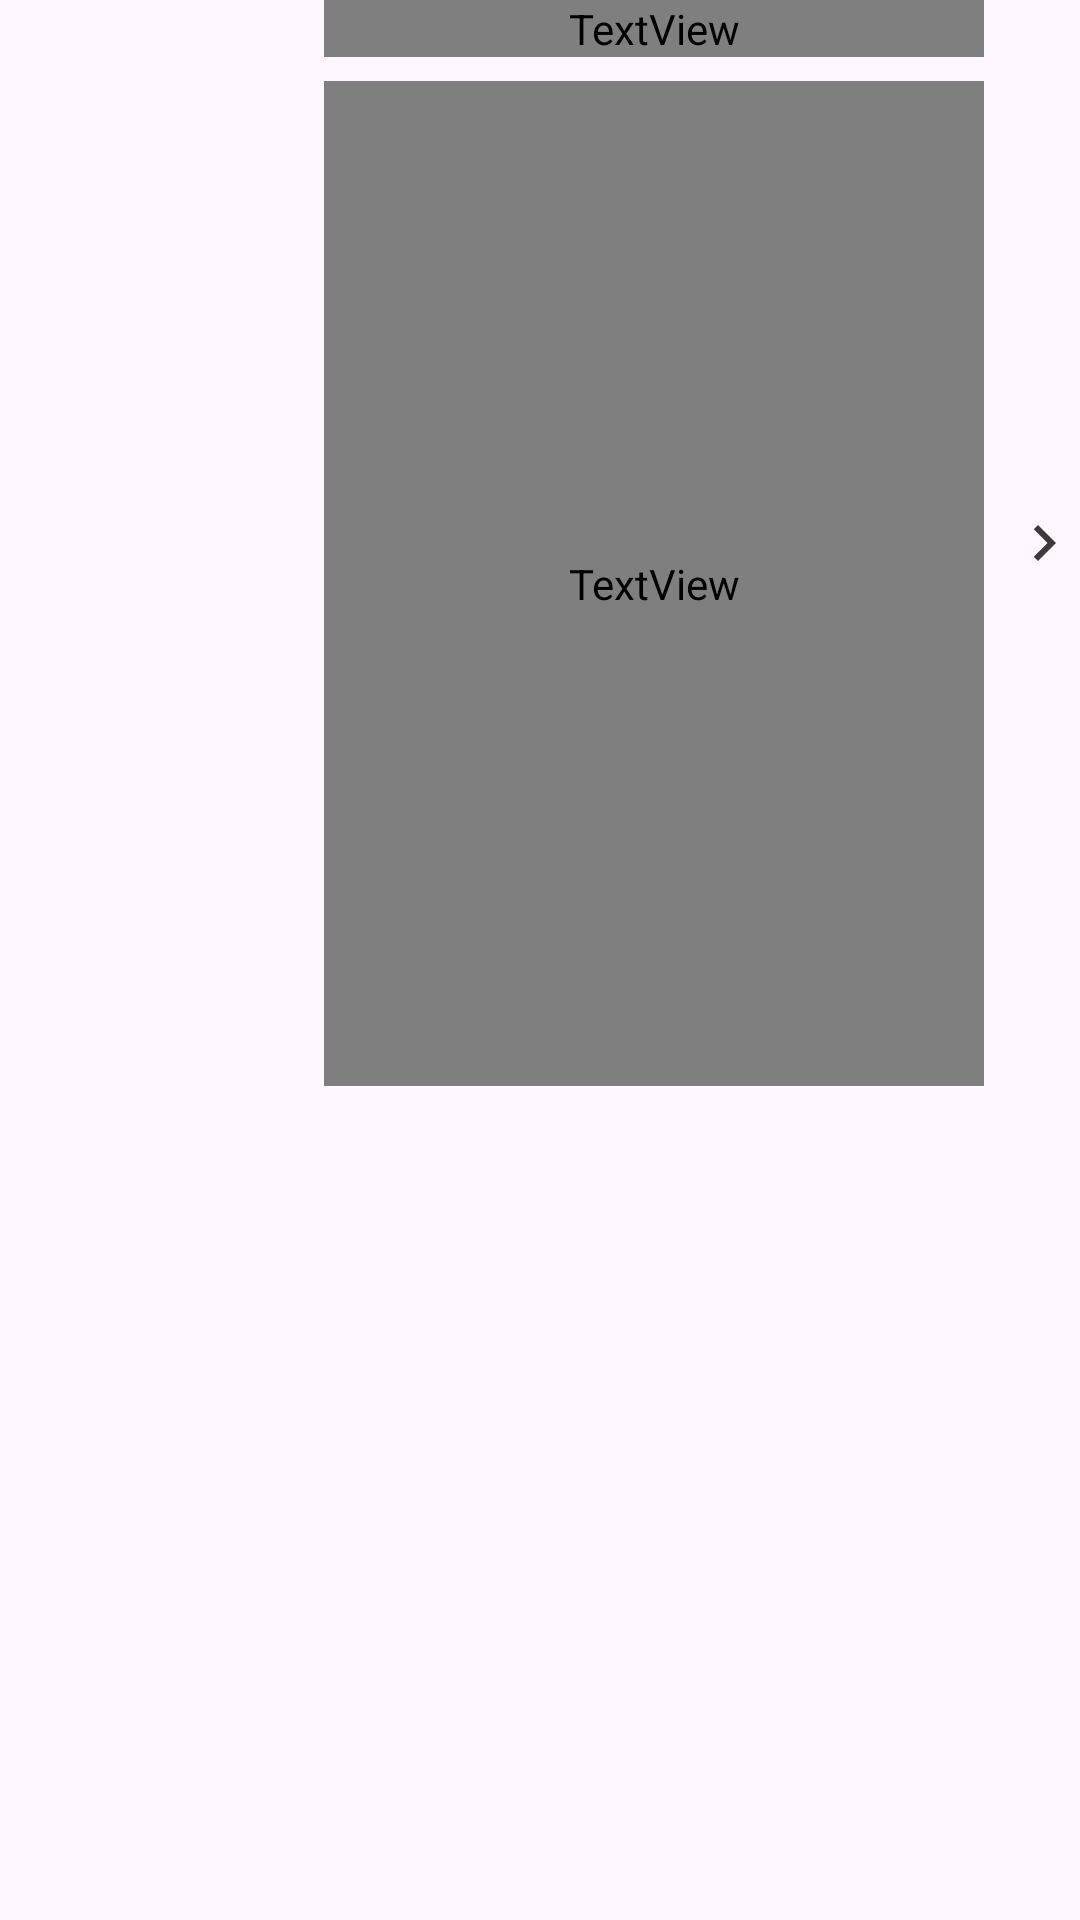

Point at icon controls on the screen. Image size 1080*1920, points as (x=x, y=y).
navigate next: (x=1045, y=543)
